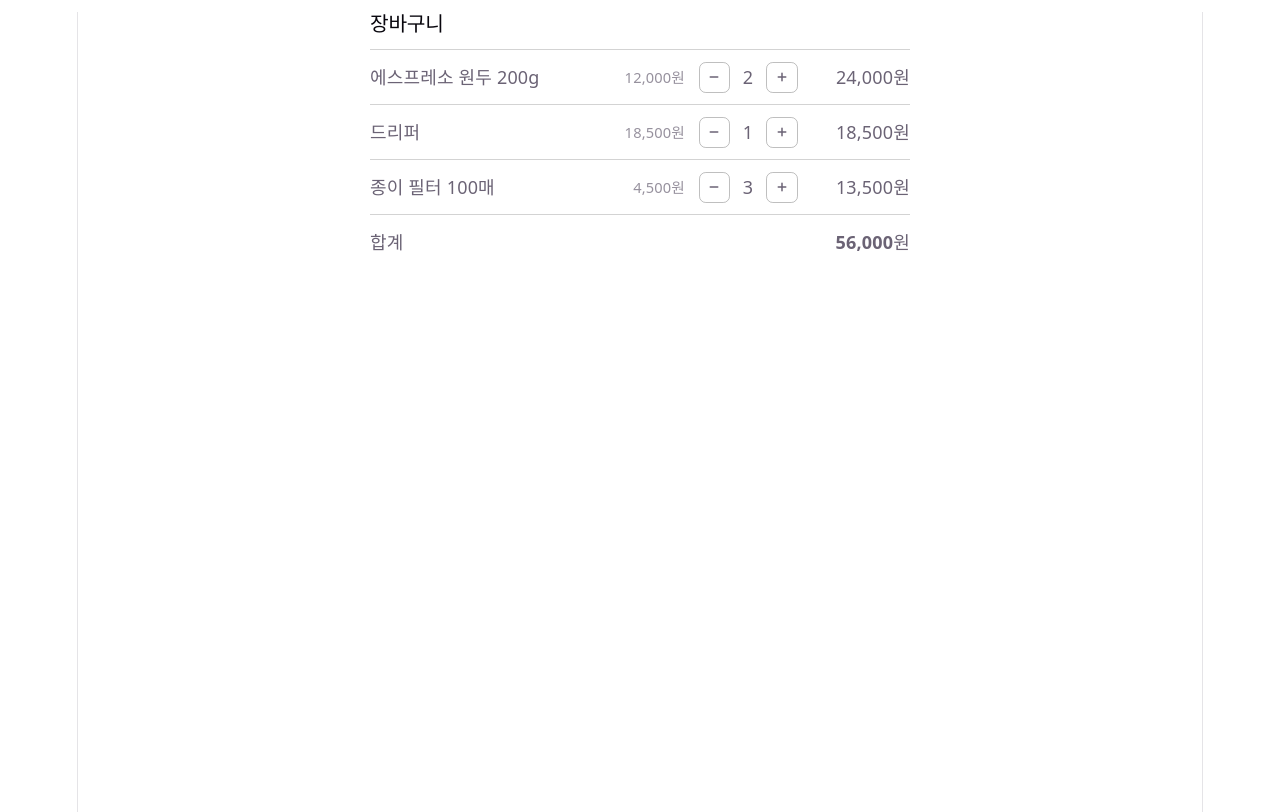
it: EV17: + 1회 클릭 — 합계가 그 항목 단가만큼 늘어난다
Step 1. Click the button named "에스프레소 원두 200g 수량 증가" → {"x": 782, "y": 77}, box [766,62,798,93]
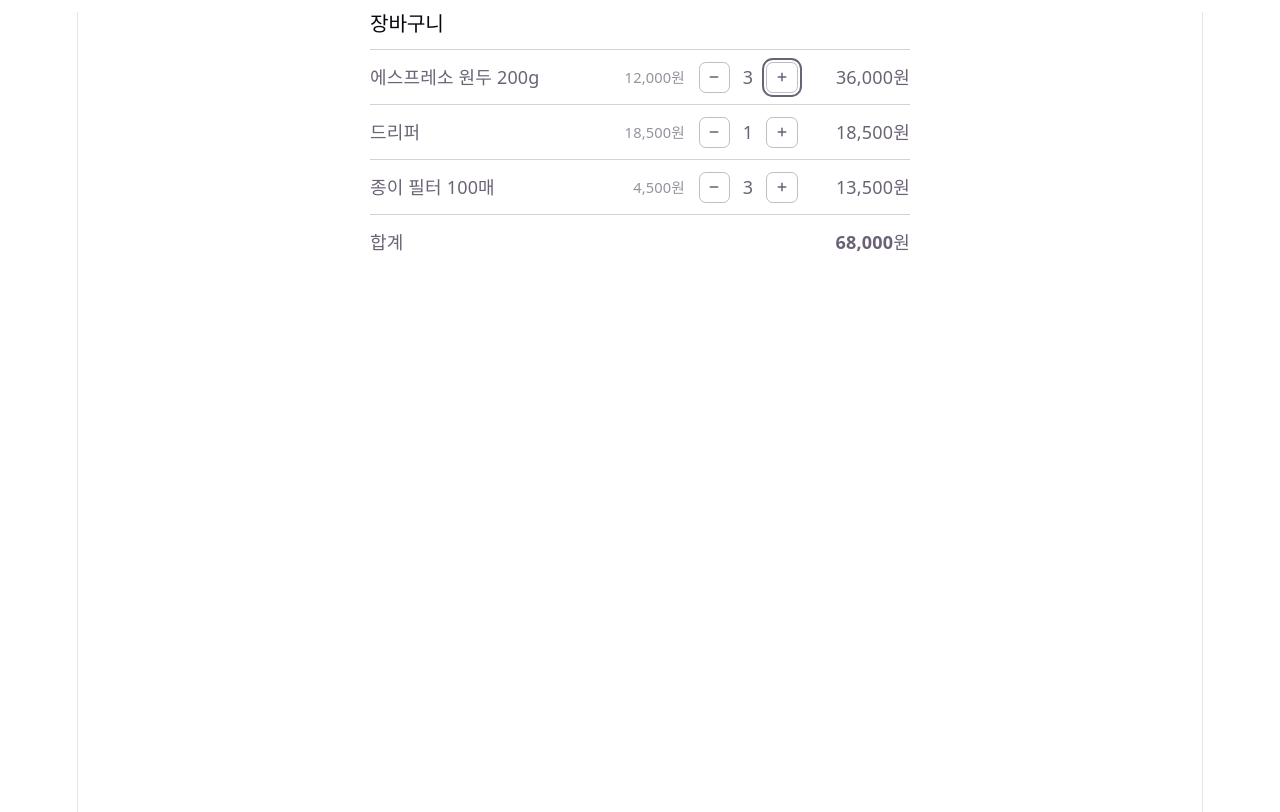
Check: the text with test id "cart-total" reads "68,000원", box [836,230,910,254]
